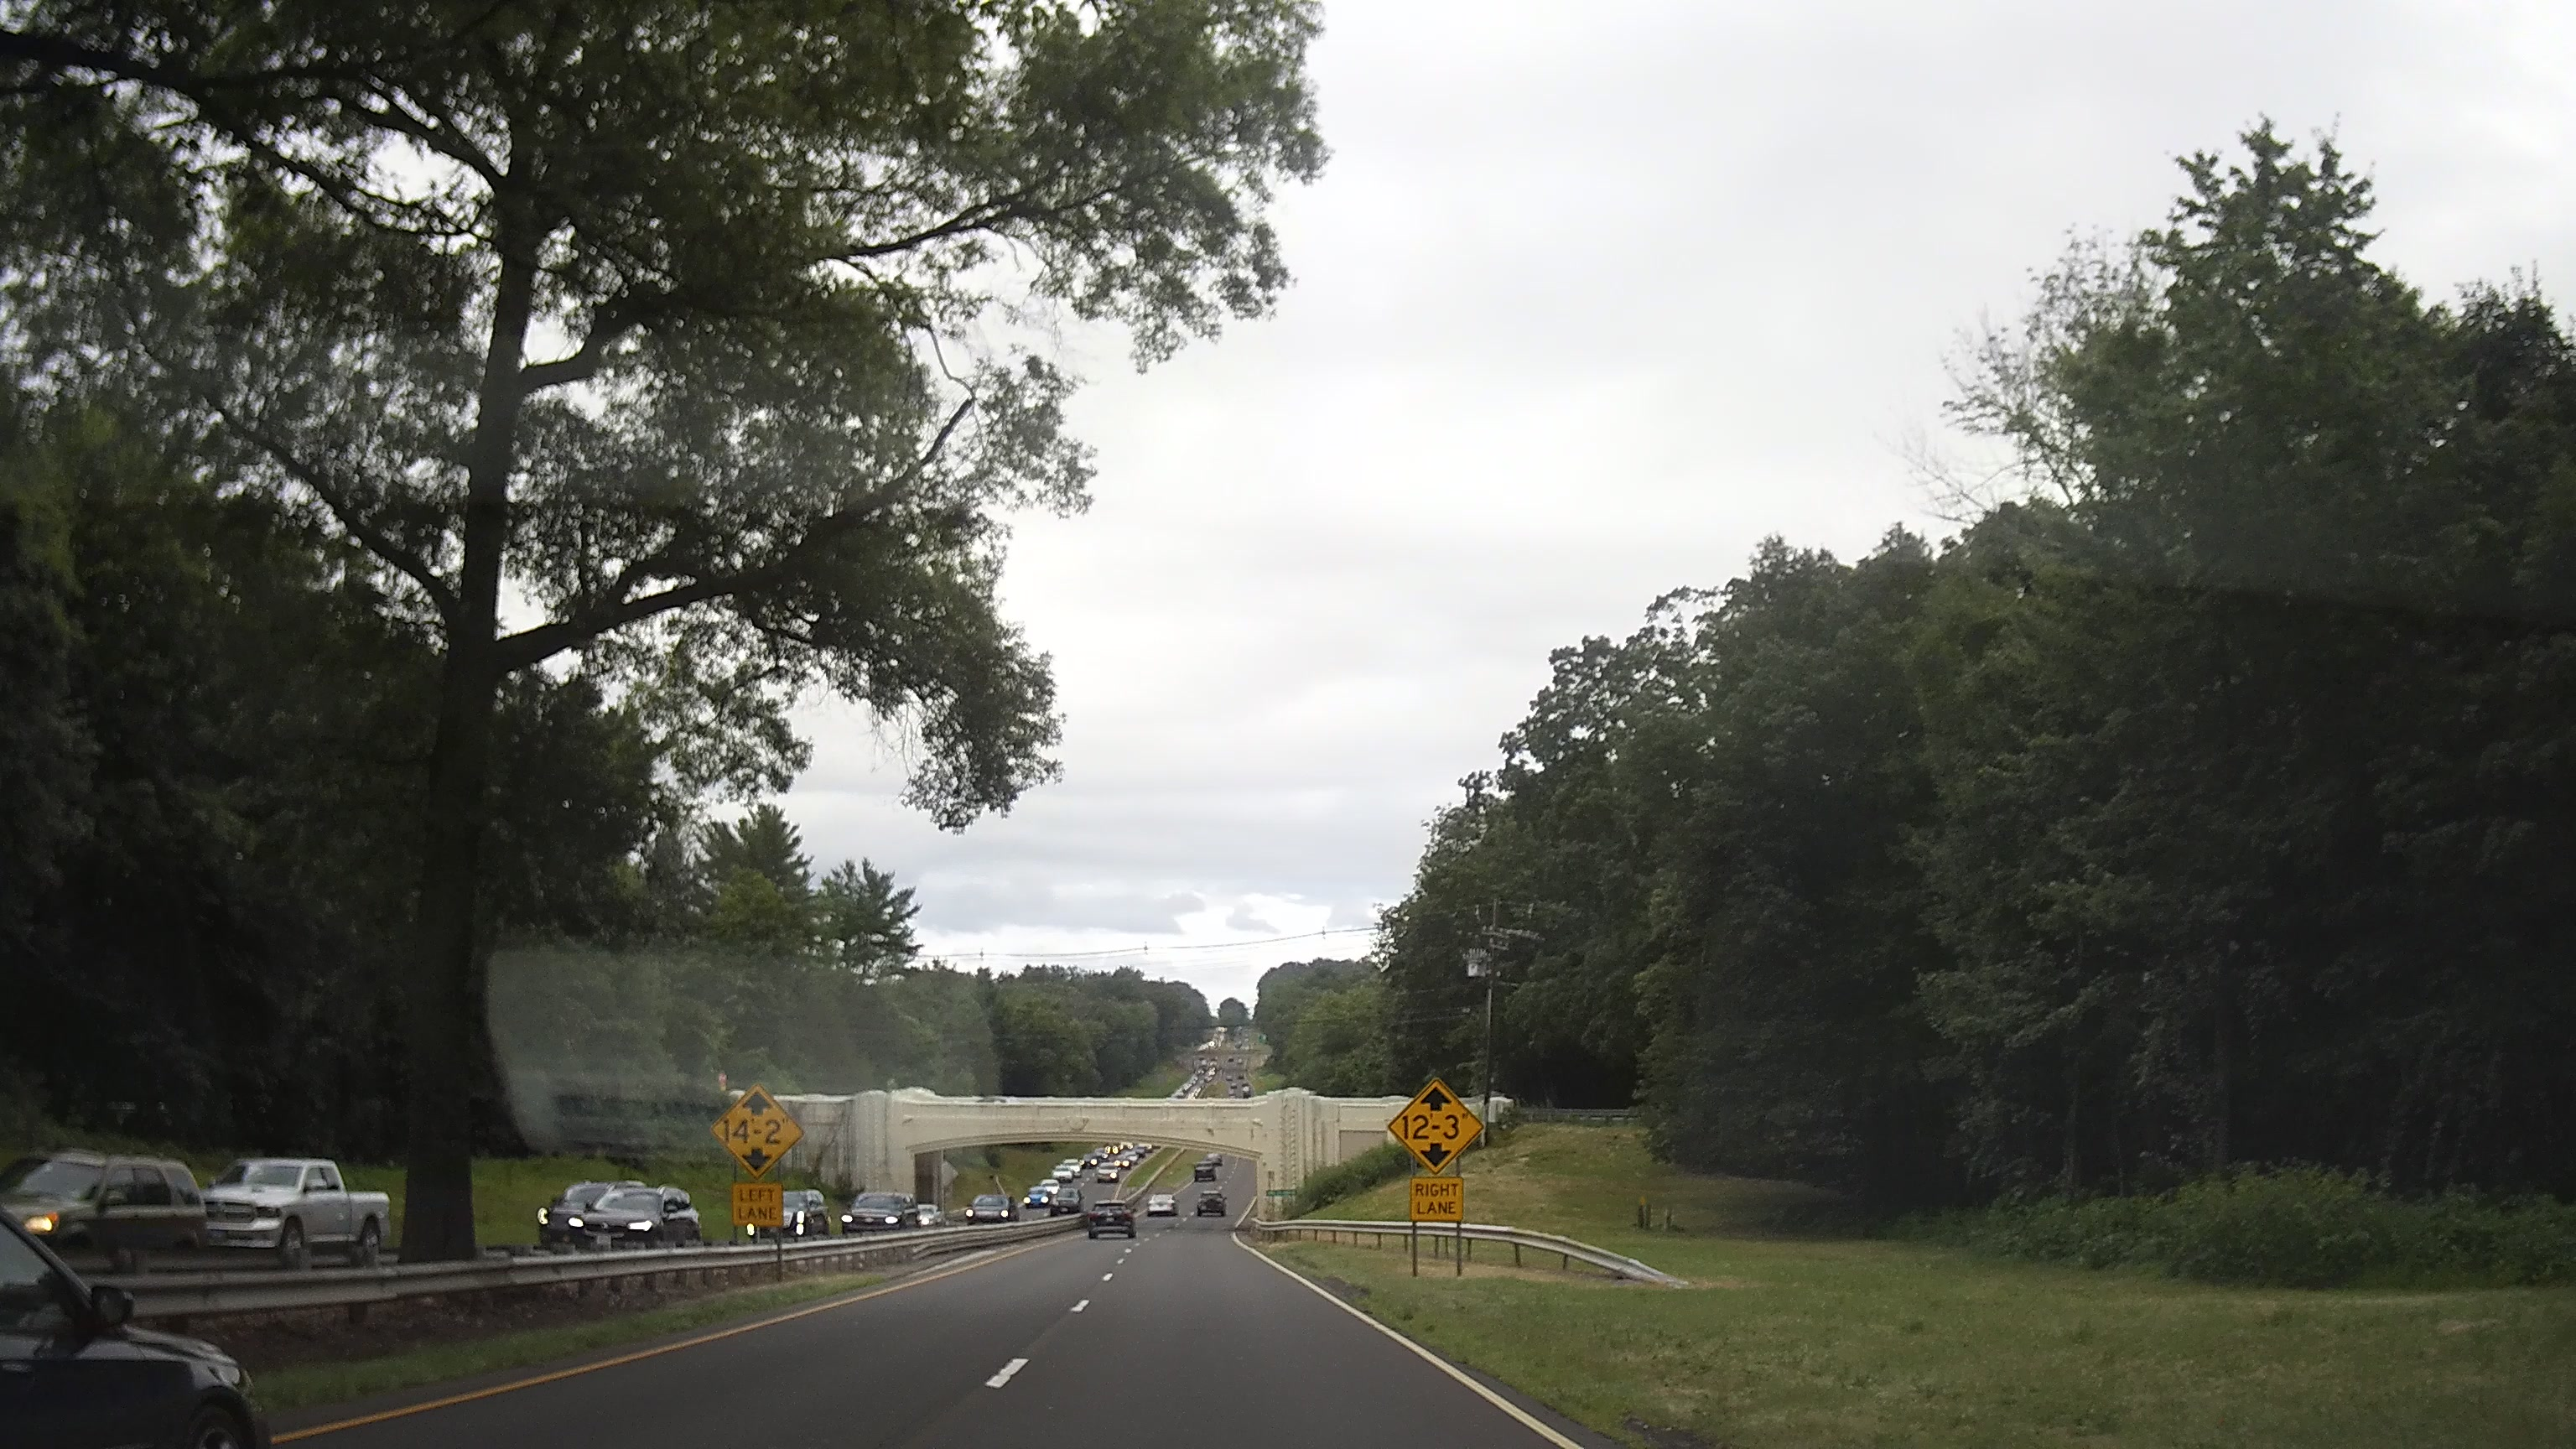low-clearance-sign: (709, 1081, 805, 1182), (1387, 1077, 1484, 1175)
